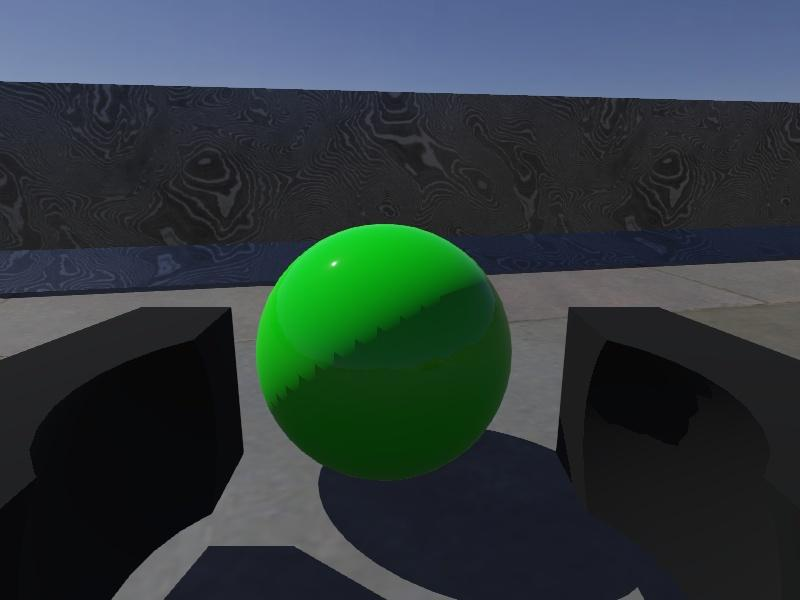green ball: (255, 222, 512, 483)
